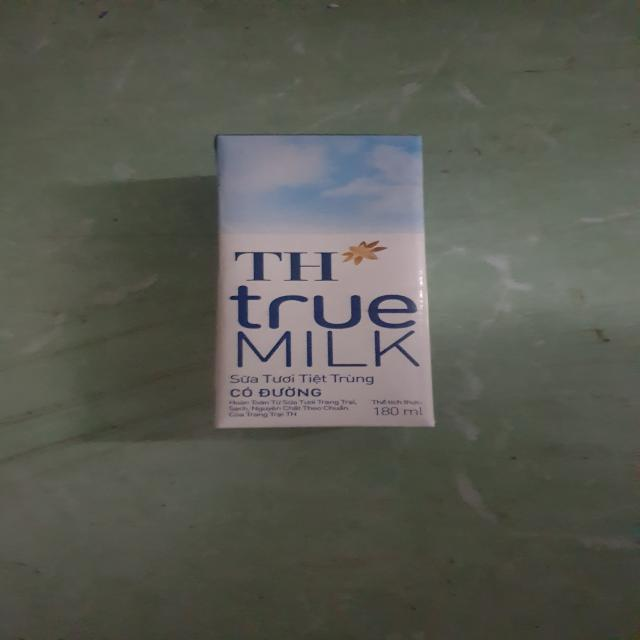TH: (208, 133, 444, 433)
